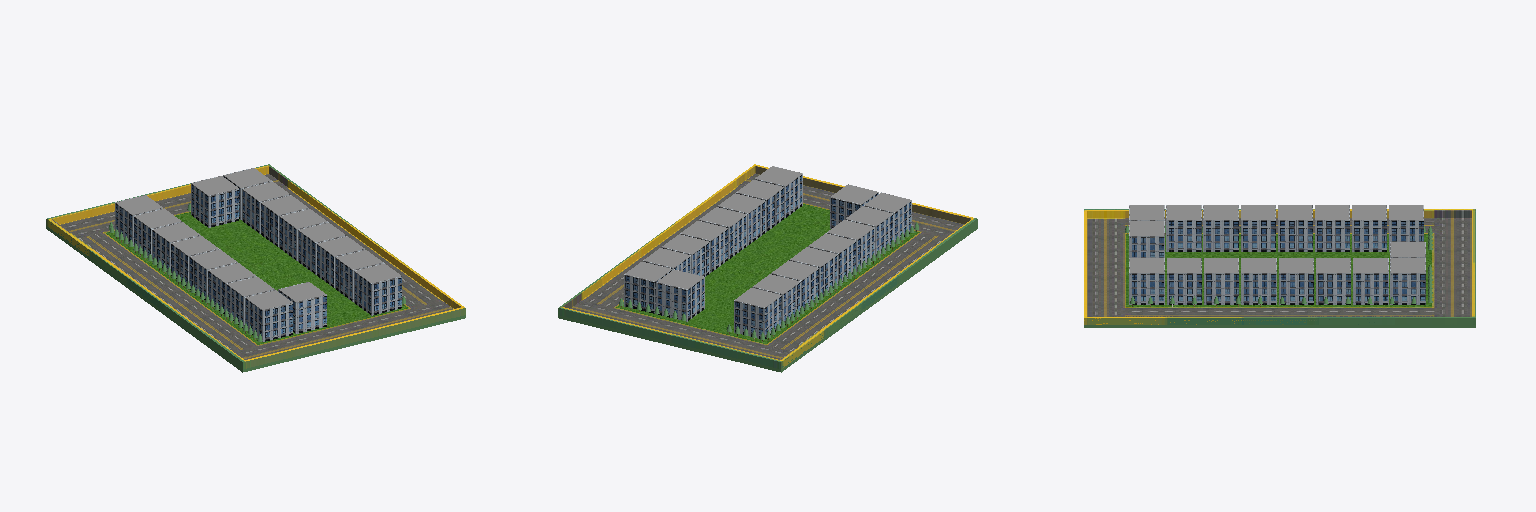
The picture shows the model from 3 angles: view 1: azimuth 30°, elevation 25°; view 2: azimuth 150°, elevation 25°; view 3: azimuth 270°, elevation 25°; orthographic projection.
Visible parts, largest first — view 1: ground1:pCube1, pCube10, pCube18, pCube8, pCube9, pCube13, pCube14, pCube16, pCube11, pCube12, pCube15, pCube5 (+7 smaller); view 2: ground1:pCube1, pCube18, pCube1, pCube17, pCube12, pCube13, pCube10, pCube11, pCube14, pCube9, pCube4, pCube6 (+7 smaller); view 3: ground1:pCube1, pCube6, pCube7, pCube16, pCube13, pCube3, pCube4, pCube2, pCube5, pCube17, pCube10, pCube12 (+7 smaller).
Boxes of the visible parts, x1,y1,x2,y2 form: ground1:pCube1: [46, 164, 465, 372]; pCube10: [354, 263, 401, 315]; pCube18: [191, 176, 238, 227]; pCube8: [245, 290, 292, 341]; pCube9: [278, 282, 326, 333]; pCube13: [298, 222, 345, 274]; pCube14: [279, 209, 327, 260]; pCube16: [242, 181, 289, 233]; pCube11: [335, 250, 383, 301]; pCube12: [317, 236, 364, 287]; pCube15: [261, 195, 308, 246]; pCube5: [189, 249, 237, 299]; ground1:pCube1: [558, 164, 977, 372]; pCube18: [656, 269, 704, 321]; pCube1: [734, 288, 781, 338]; pCube17: [624, 262, 672, 313]; pCube12: [717, 193, 765, 245]; pCube13: [699, 207, 746, 258]; pCube10: [755, 166, 802, 217]; pCube11: [736, 180, 783, 231]; pCube14: [680, 221, 727, 272]; pCube9: [830, 184, 878, 228]; pCube4: [789, 247, 837, 296]; pCube6: [827, 220, 874, 271]; ground1:pCube1: [1084, 209, 1475, 327]; pCube6: [1203, 205, 1238, 251]; pCube7: [1166, 205, 1201, 251]; pCube16: [1353, 258, 1388, 304]; pCube13: [1241, 258, 1276, 304]; pCube3: [1315, 205, 1349, 251]; pCube4: [1278, 205, 1312, 251]; pCube2: [1352, 205, 1386, 251]; pCube5: [1241, 205, 1275, 251]; pCube17: [1390, 258, 1425, 304]; pCube10: [1129, 258, 1164, 304]; pCube12: [1204, 258, 1238, 304].
Bounding box in the file's own units: 71.56 × 10.83 × 109.
4 materials, 4 textured.